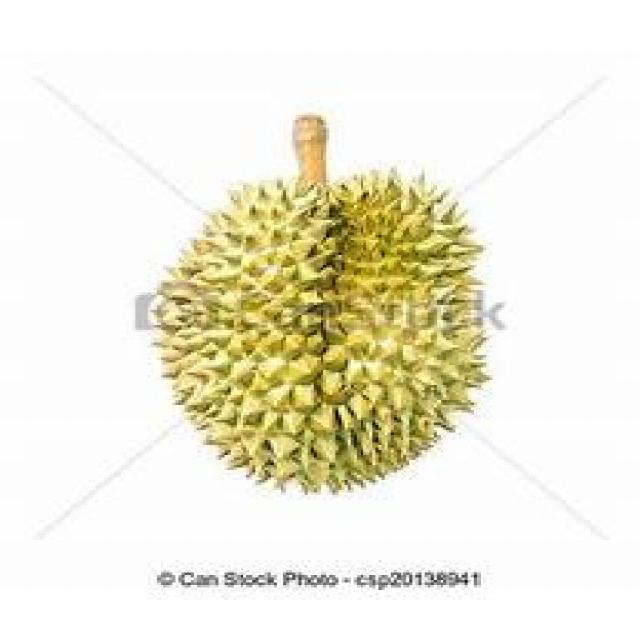fruit: (111, 148, 526, 538)
